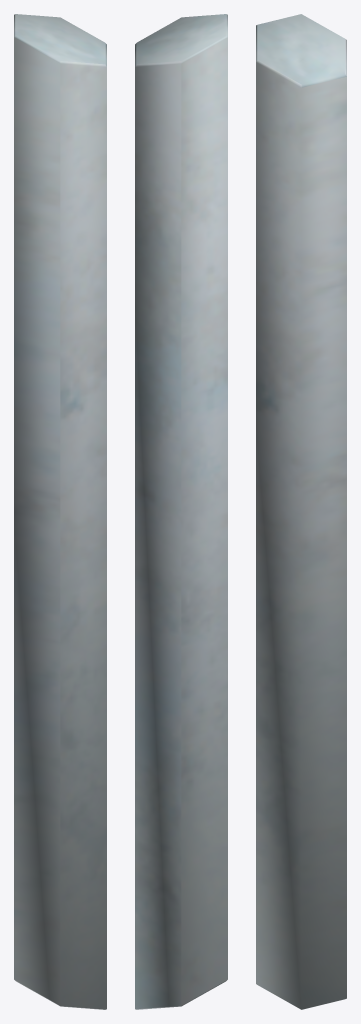
File: P_RockHexic_Piece10.obj
The picture shows the model from 3 angles, left to right: view 1: azimuth 30°, elevation 25°; view 2: azimuth 210°, elevation 25°; view 3: azimuth 330°, elevation 25°; orthographic projection. The views are drawn at different scales.
Size of the model in its own units: 3.6 by 36.09 by 3.12.
